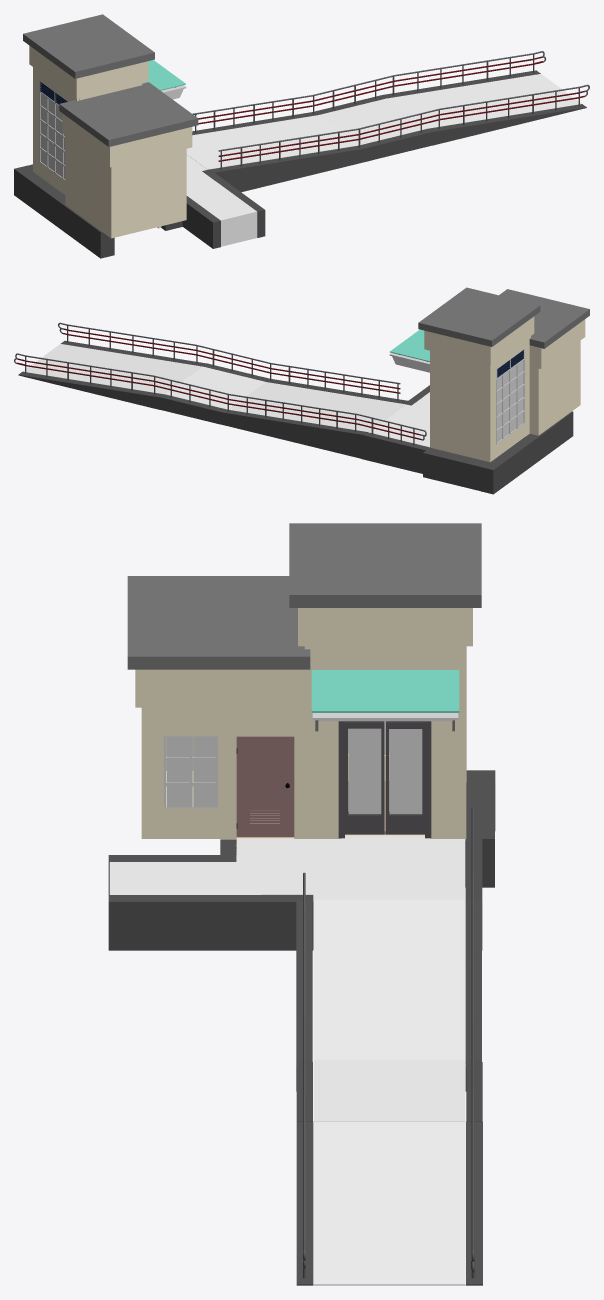
Rendered from Slope.fbx.
The picture shows the model from 3 angles, top to bottom: view 1: azimuth 30°, elevation 25°; view 2: azimuth 150°, elevation 25°; view 3: azimuth 270°, elevation 25°; orthographic projection. The views are drawn at different scales.
Visible parts, largest first — view 1: 立方體.126, 立方體.006, 立方體.007, 立方體.146, 立方體.013, 立方體.017, 立方體.145, 立方體.012, 立方體.011, 立方體.005, 立方體.127, 立方體.014 (+10 smaller); view 2: 立方體, 立方體.006, 立方體.007, 立方體.013, 立方體.126, 立方體.001, 立方體.010, 立方體.146, 立方體.012, 立方體.011, 立方體.020, 立方體.000 (+12 smaller); view 3: 立方體.006, 立方體.007, 立方體.013, 立方體.146, 立方體.126, 立方體, 立方體.019, 立方體.018, 立方體.011, 立方體.145, 立方體.012, 立方體.125 (+14 smaller).
Part boxes in pixels (left/top/right/bottom): 立方體.126: left=65, top=135, right=186, bottom=238; 立方體.006: left=186, top=113, right=366, bottom=169; 立方體.007: left=387, top=74, right=581, bottom=128; 立方體.146: left=59, top=82, right=198, bottom=146; 立方體.013: left=23, top=14, right=154, bottom=78; 立方體.017: left=208, top=143, right=371, bottom=192; 立方體.145: left=62, top=113, right=192, bottom=167; 立方體.012: left=29, top=45, right=148, bottom=98; 立方體.011: left=326, top=98, right=427, bottom=143; 立方體.005: left=186, top=186, right=257, bottom=246; 立方體.127: left=40, top=185, right=114, bottom=258; 立方體.014: left=428, top=104, right=586, bottom=145; 立方體: left=430, top=350, right=487, bottom=461; 立方體.006: left=221, top=380, right=405, bottom=431; 立方體.007: left=23, top=344, right=202, bottom=394; 立方體.013: left=418, top=287, right=540, bottom=346; 立方體.126: left=529, top=340, right=580, bottom=435; 立方體.001: left=217, top=408, right=367, bottom=458; 立方體.010: left=480, top=429, right=548, bottom=494; 立方體.146: left=499, top=289, right=589, bottom=348; 立方體.012: left=424, top=316, right=534, bottom=365; 立方體.011: left=165, top=366, right=258, bottom=408; 立方體.020: left=423, top=447, right=489, bottom=490; 立方體.000: left=362, top=432, right=429, bottom=473; 立方體.006: left=313, top=899, right=465, bottom=1066; 立方體.007: left=313, top=1121, right=465, bottom=1285; 立方體.013: left=289, top=523, right=481, bottom=607; 立方體.146: left=127, top=576, right=310, bottom=669; 立方體.126: left=141, top=707, right=310, bottom=838; 立方體: left=304, top=646, right=466, bottom=840; 立方體.019: left=108, top=895, right=313, bottom=950; 立方體.018: left=313, top=836, right=465, bottom=948; 立方體.011: left=313, top=1066, right=465, bottom=1121; 立方體.145: left=135, top=669, right=310, bottom=707; 立方體.012: left=298, top=608, right=472, bottom=646; 立方體.125: left=311, top=670, right=459, bottom=712.
Bounding box in the file's own units: 3322 × 974 × 1137.
